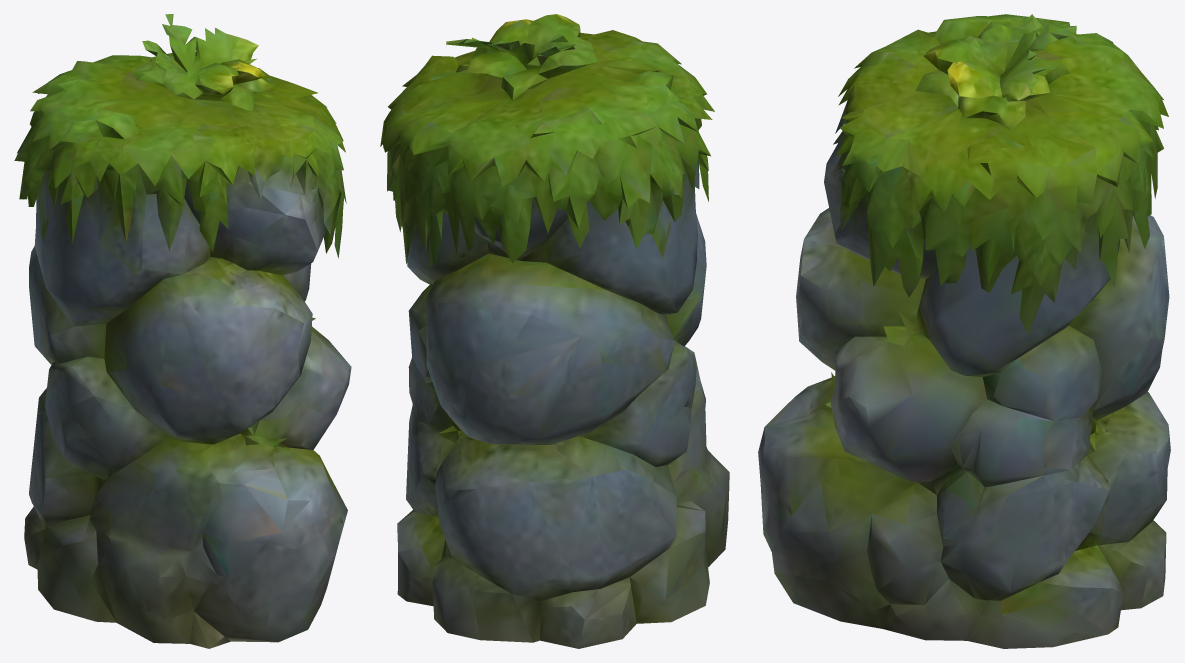
The model's file is pilar_cascada_ancho.glb.
3 views of the same model, side by side, from view 1: azimuth 30°, elevation 25°; view 2: azimuth 150°, elevation 25°; view 3: azimuth 270°, elevation 25° (orthographic). The views are drawn at different scales.
Visible parts, largest first — view 1: pilar_cascada_ancho_malla; view 2: pilar_cascada_ancho_malla; view 3: pilar_cascada_ancho_malla.
Boxes of the visible parts, left/top/right/bottom form: pilar_cascada_ancho_malla: left=14, top=14, right=351, bottom=648; pilar_cascada_ancho_malla: left=380, top=14, right=729, bottom=648; pilar_cascada_ancho_malla: left=758, top=14, right=1170, bottom=648.
Bounding box in the file's own units: 0.1913 × 0.339 × 0.2243.
Materials: 1 (1 with a texture image).
